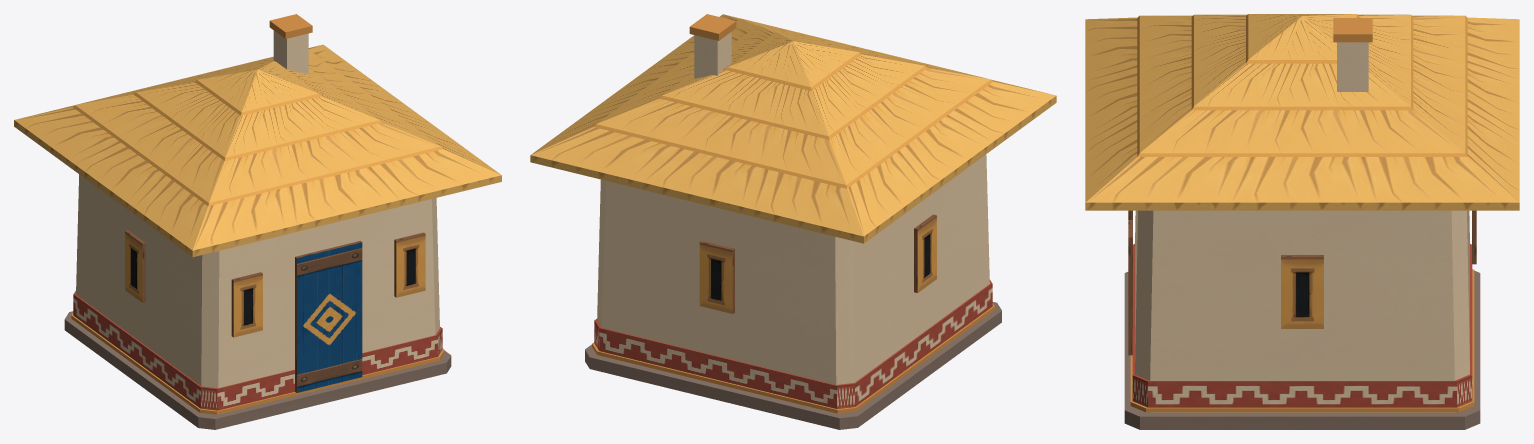
Rendered from SM_RC_MudHut_Square_1F.gltf.
3 views of the same model, side by side, from view 1: azimuth 30°, elevation 25°; view 2: azimuth 150°, elevation 25°; view 3: azimuth 270°, elevation 25° (orthographic). The views are drawn at different scales.
Visible parts, largest first — view 1: SM_RC_WA_MudHut_Square_1F_RoofFixed; view 2: SM_RC_WA_MudHut_Square_1F_RoofFixed; view 3: SM_RC_WA_MudHut_Square_1F_RoofFixed.
Boxes of the visible parts, box(x1,y1,x2,y2) form: SM_RC_WA_MudHut_Square_1F_RoofFixed: box(14, 14, 501, 429); SM_RC_WA_MudHut_Square_1F_RoofFixed: box(530, 14, 1056, 429); SM_RC_WA_MudHut_Square_1F_RoofFixed: box(1085, 14, 1519, 429).
Size of the model in its own units: 6.84 by 6.27 by 6.84.
1 material, 1 textured.
